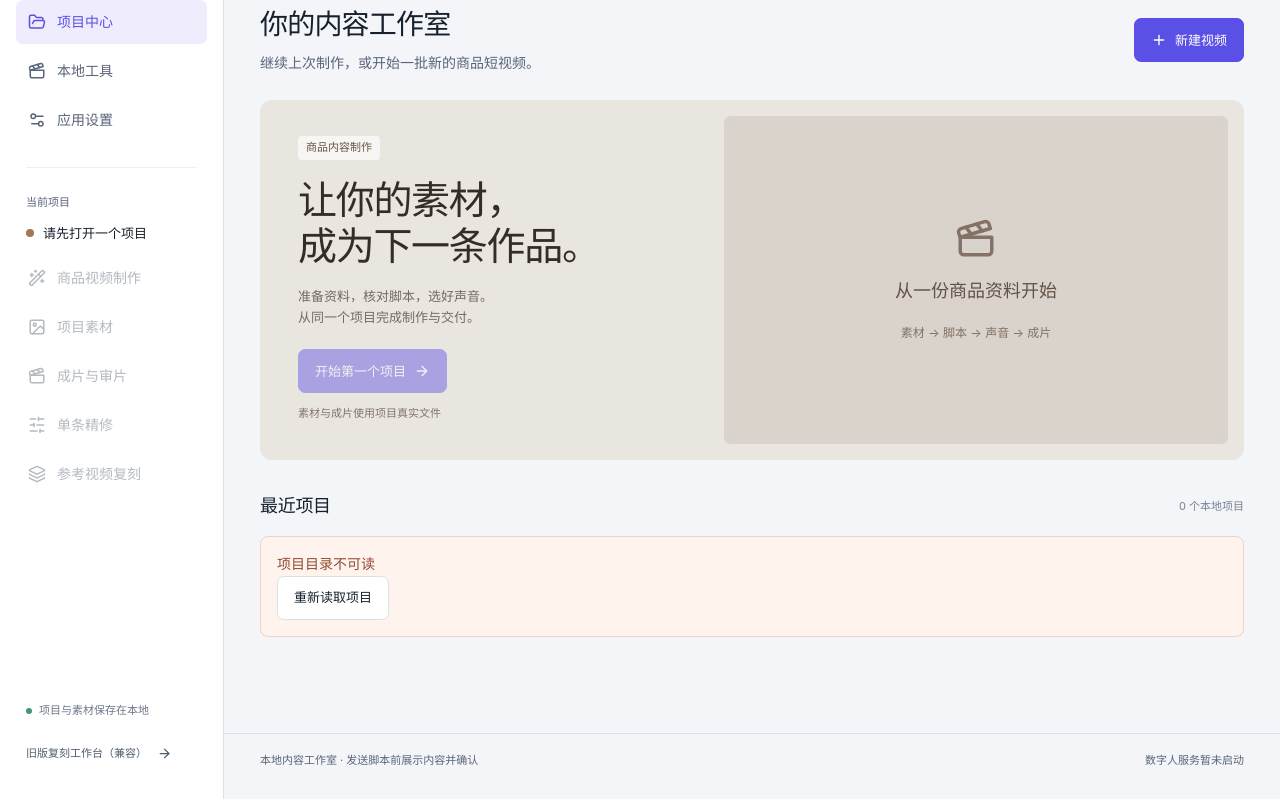
读取失败不伪装演示项目，可重试获得真实列表
This screenshot has width=1280, height=799.
Check: the message shows "项目目录不可读", box [277,556,375,572]
Click the button "重新读取项目" at (333, 598), box [277,576,389,620]
(page scrolled)
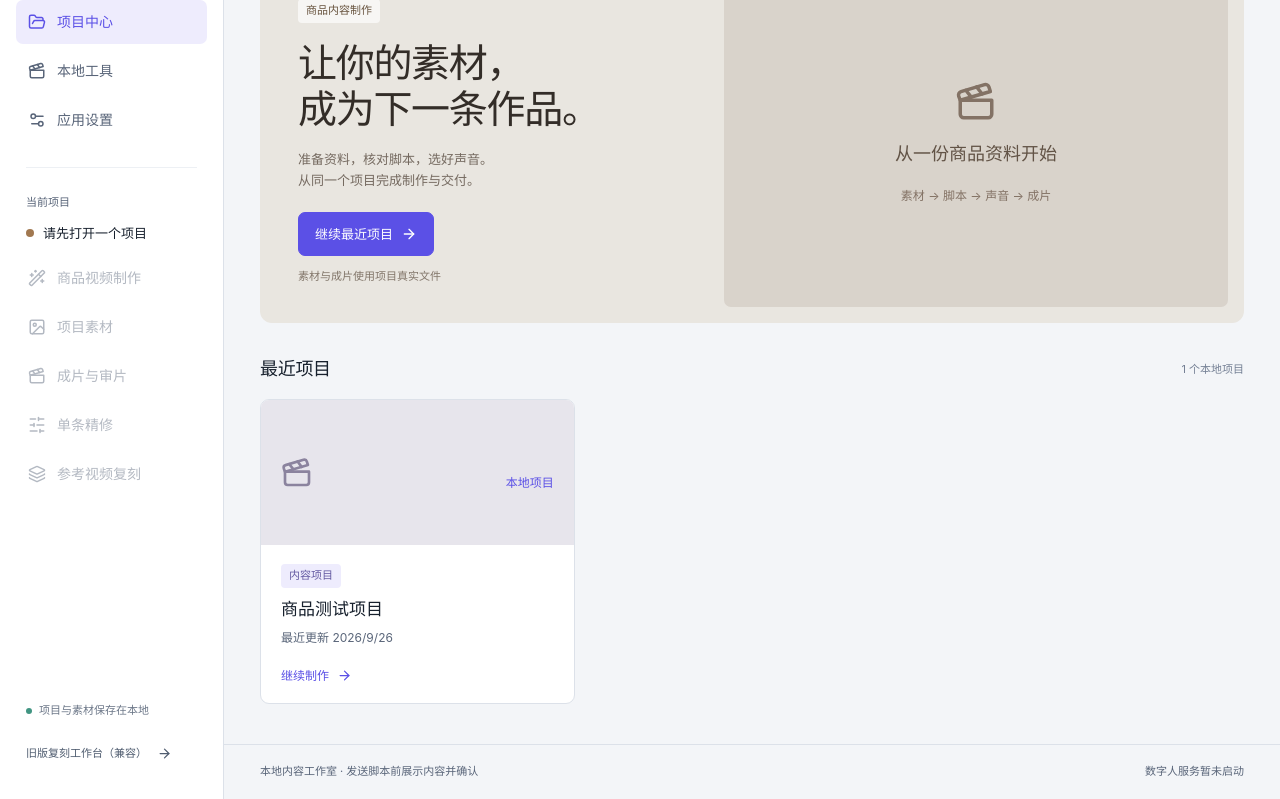
Check: the button with aria-label "打开项目 商品测试项目" is shown, box [260,400,575,704]
